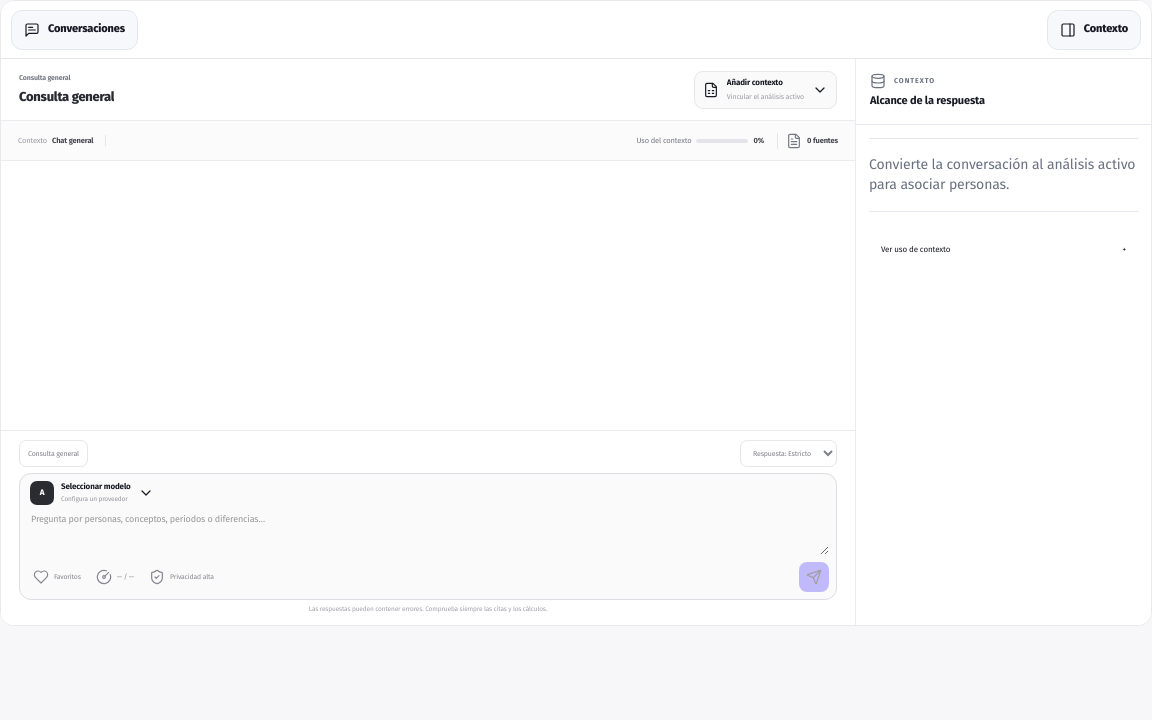
assistant model selector regressions › shows unknown chat compatibility only in Ver todos without emptying general chat
Click the button with aria-label "Modelo de conversación: sin seleccionar" at (92, 493), box [27,481,157,505]
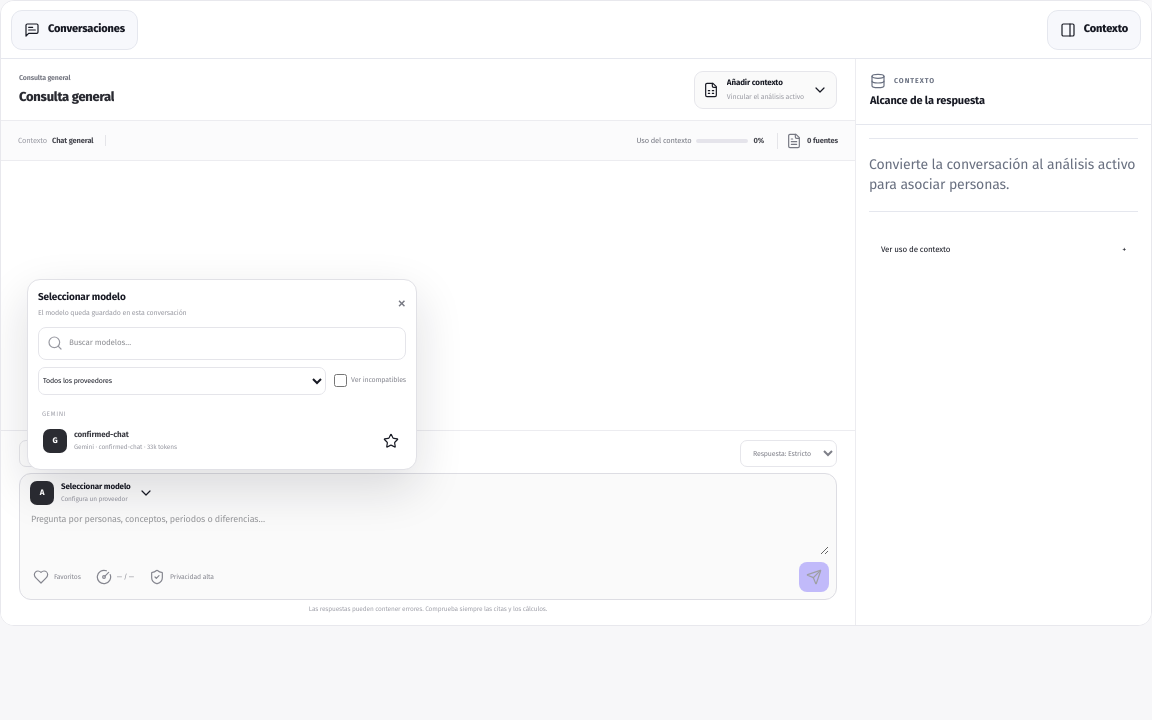
Expected: the text "unknown-chat" is not shown
Now the text "confirmed-chat" is shown, box [74,430,129,439]
Click the checkbox named "Ver todos" at (341, 380), box [334,374,347,387]
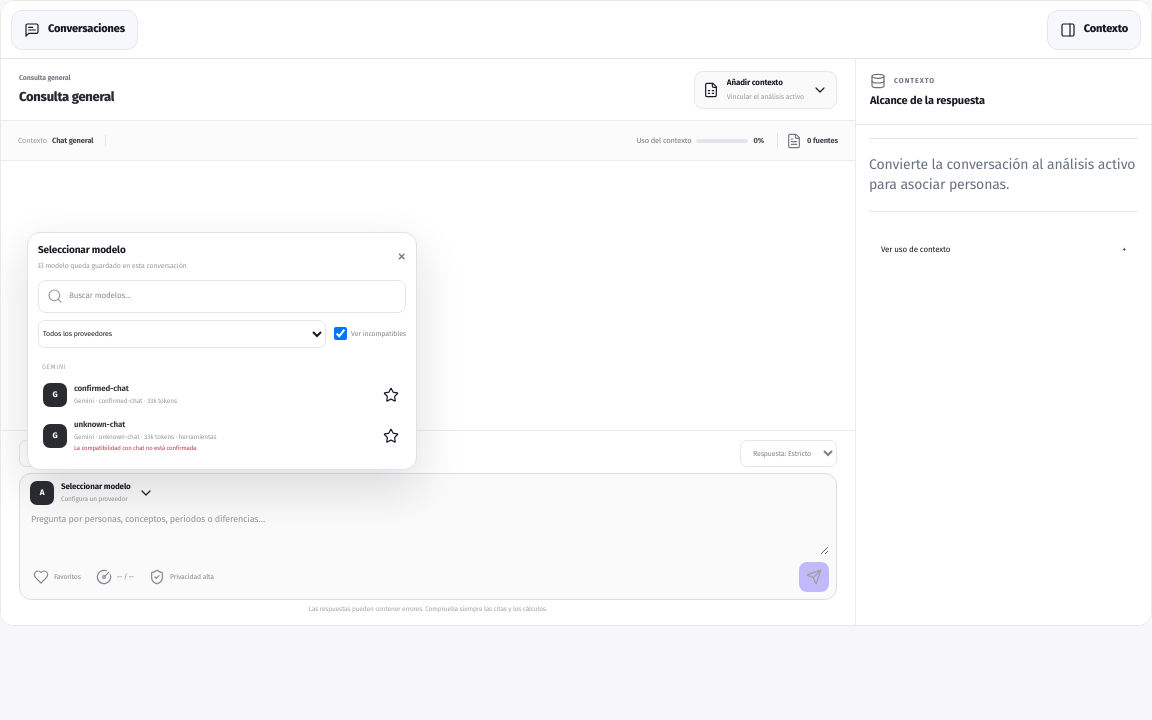
Now the button "unknown-chat" is disabled, box [38,412,376,459]
Now the text "La compatibilidad con chat no está confirmada." is shown, box [74,444,198,452]
